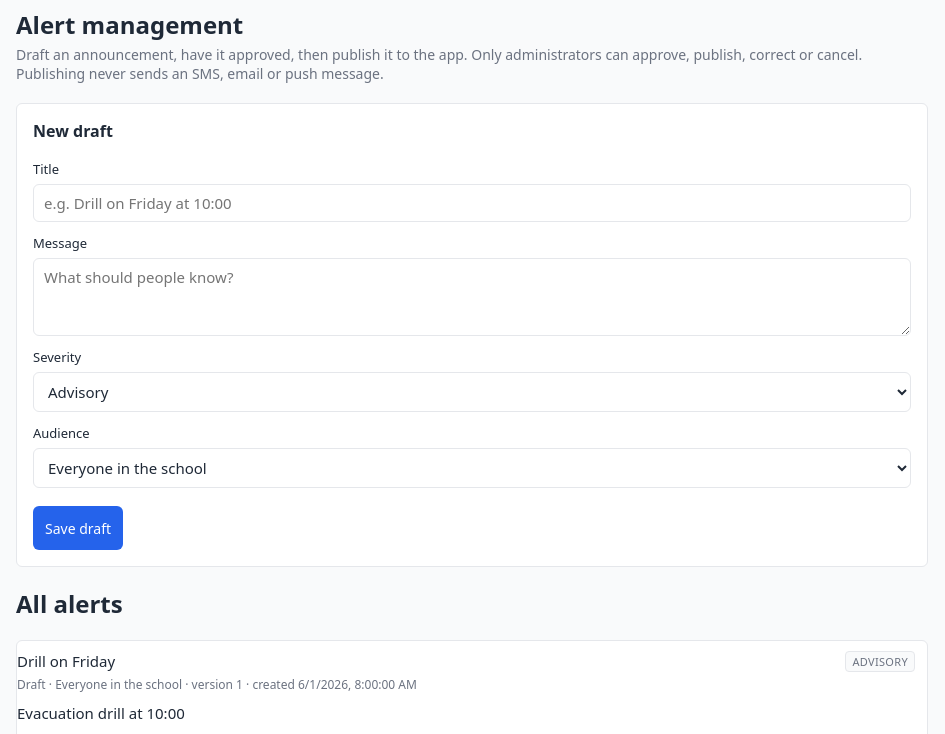
Test: AdminAlerts › rejects a draft with no title or message
Expected: the text "Drill on Friday" is shown, [17,651,115,671]
Click the button "Save draft".
click(78, 528)  # box [33,506,123,550]
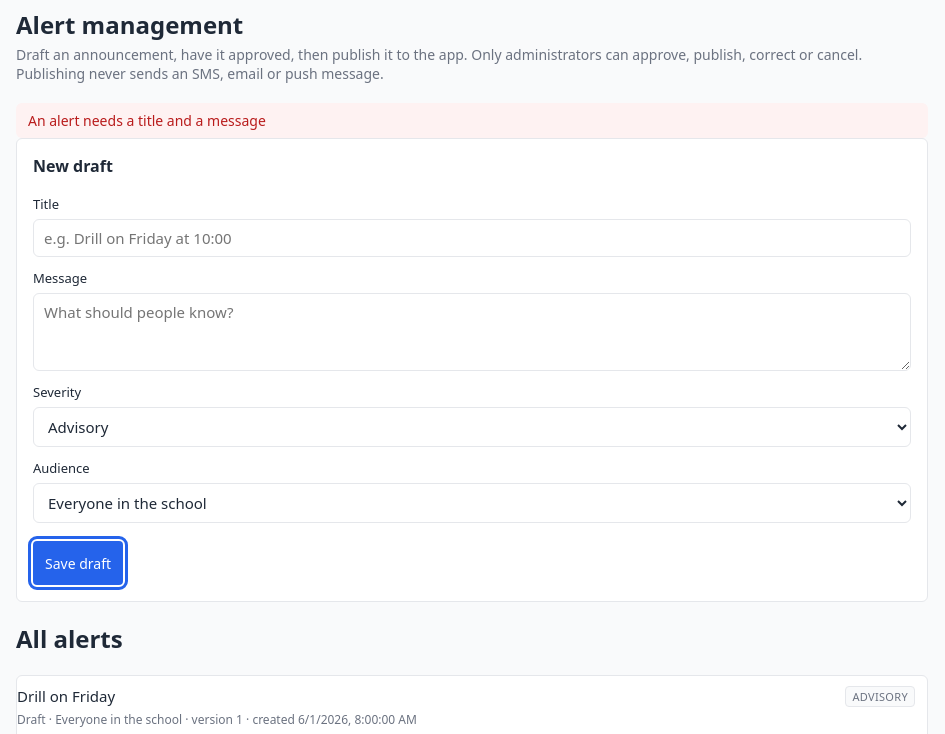
Expected: the message shows "needs a title and a message", [28,111,266,130]
